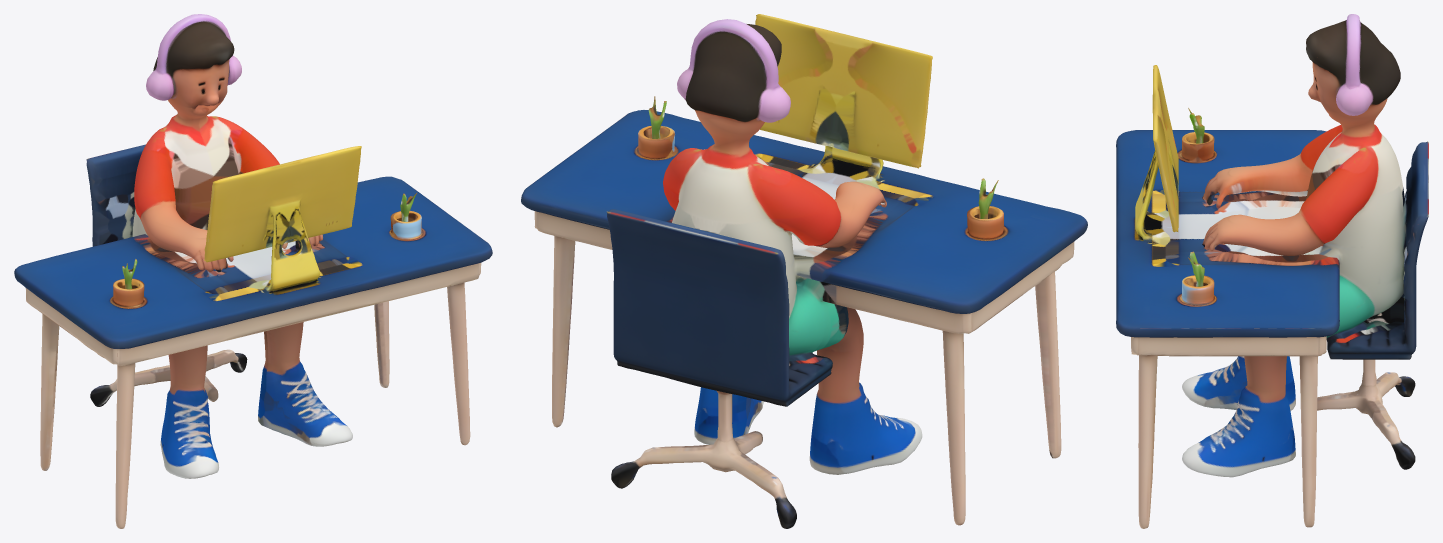
The model's file is homepage.glb.
The picture shows the model from 3 angles, left to right: view 1: azimuth 30°, elevation 25°; view 2: azimuth 150°, elevation 25°; view 3: azimuth 270°, elevation 25°; orthographic projection. The views are drawn at different scales.
Parts seen in each view (by area): view 1: model; view 2: model; view 3: model.
Boxes of the visible parts, box(x1,y1,x2,y2) form: model: box(14, 14, 492, 528); model: box(521, 14, 1087, 528); model: box(1116, 14, 1428, 528).
Bounding box in the file's own units: 1.91 × 1.88 × 1.26.
Materials: 1 (1 with a texture image).
